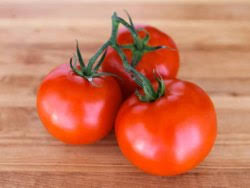tomato: (118, 82, 217, 175), (35, 64, 118, 145)
